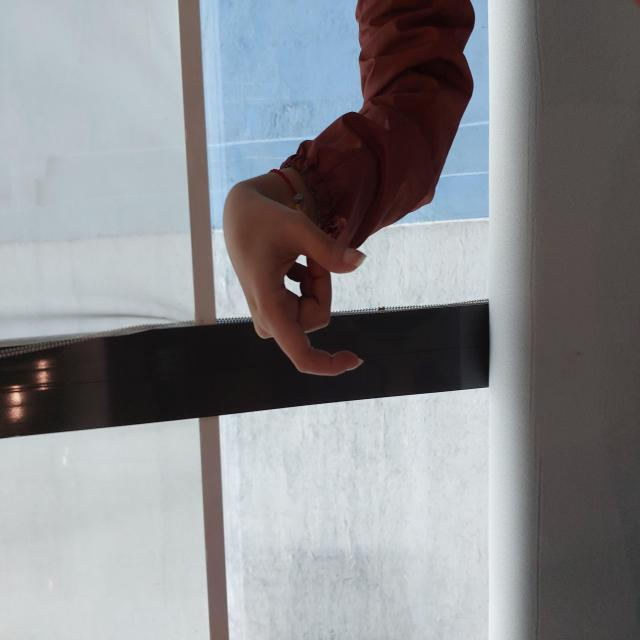Q: (262, 220, 454, 366)
